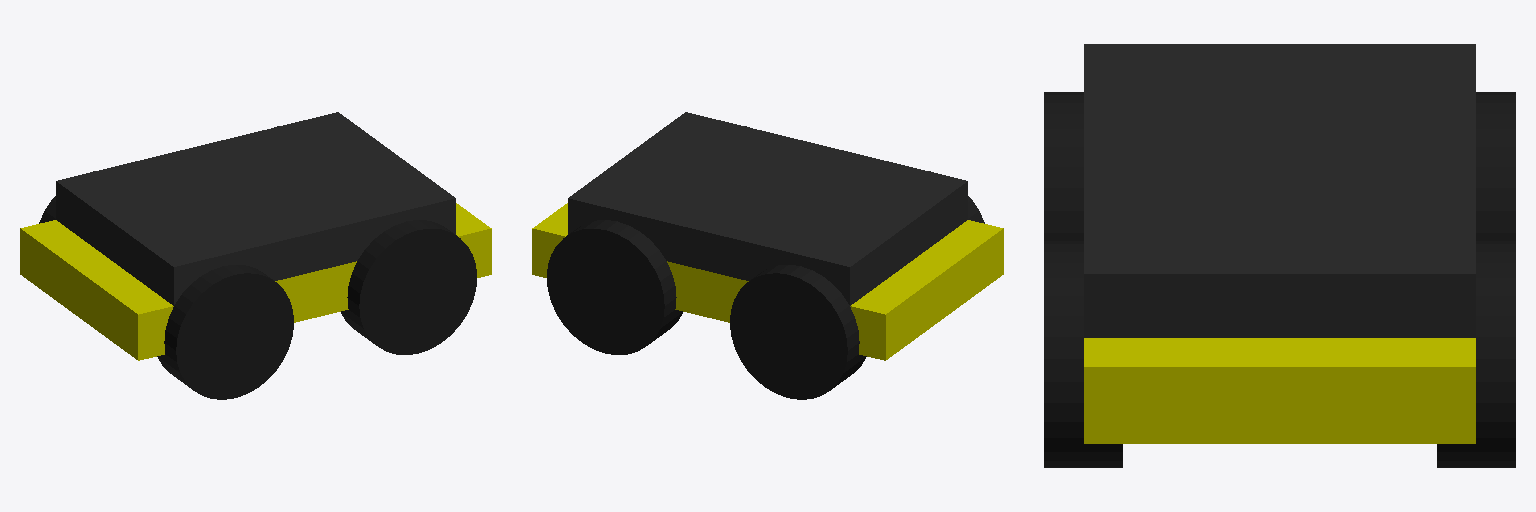
The robot description file, URDF, robot "husky":
<?xml version="1.0" ?>
<!--
  Clearpath Husky A200, hand-expanded to plain URDF.

  Source: github.com/husky/husky, package husky_description
    urdf/husky.urdf.xacro   (rev melodic-devel: base_[xyz]_size, wheelbase, track,
                             wheel_vertical_offset, base_link collision boxes,
                             inertial_link, the four husky_wheel invocations)
    urdf/wheel.urdf.xacro   (husky_wheel macro: wheel mass, inertia, cylinder
                             collision, continuous joint about Y)

  Two deliberate differences from the upstream description, both noted in
  examples/husky/README.md:

  * The .dae visual meshes (base_link, wheel, top_chassis, bumpers, user rail,
    top plate) are replaced by the primitives the upstream file already gives as
    *collision* geometry, because the ostrich builder is fed primitives.
  * `track` is 0.5708, the value in husky/husky kinetic-devel and melodic-devel.
    noetic-devel changed it to 0.555; every other number here is identical
    across those branches.

  Nothing in ostrich parses this file: like examples/assets/helhest.urdf it is
  the traceable record of where examples/husky/common.py's numbers come from.
-->
<robot name="husky">

  <!-- Base link is the center of the robot's bottom plate. -->
  <link name="base_link">
    <!-- Lower half of the chassis shell: base_x_size x base_y_size x base_z_size/2,
         centred at base_z_size/4. -->
    <visual>
      <origin xyz="0 0 0.061875" rpy="0 0 0"/>
      <geometry>
        <box size="0.987400 0.570900 0.123750"/>
      </geometry>
      <material name="husky_yellow">
        <color rgba="0.8 0.8 0.0 1.0"/>
      </material>
    </visual>
    <collision>
      <origin xyz="0 0 0.061875" rpy="0 0 0"/>
      <geometry>
        <box size="0.987400 0.570900 0.123750"/>
      </geometry>
    </collision>

    <!-- Upper half: base_x_size*4/5 x base_y_size x base_z_size/2 - 0.02,
         centred at base_z_size*3/4 - 0.01. -->
    <visual>
      <origin xyz="0 0 0.175625" rpy="0 0 0"/>
      <geometry>
        <box size="0.789920 0.570900 0.103750"/>
      </geometry>
      <material name="husky_dark_grey">
        <color rgba="0.2 0.2 0.2 1.0"/>
      </material>
    </visual>
    <collision>
      <origin xyz="0 0 0.175625" rpy="0 0 0"/>
      <geometry>
        <box size="0.789920 0.570900 0.103750"/>
      </geometry>
    </collision>

    <!-- Upstream carries this on a fixed-jointed `inertial_link`; folded onto
         base_link here (the fixed joint has a zero origin, so the values are
         unchanged). Inertia is about the center of mass. -->
    <inertial>
      <mass value="46.034"/>
      <origin xyz="-0.00065 -0.085 0.062" rpy="0 0 0"/>
      <inertia ixx="0.6022" ixy="-0.02364" ixz="-0.1197"
               iyy="1.7386" iyz="-0.001544" izz="2.0296"/>
    </inertial>
  </link>

  <!-- Ground contact point: wheel_vertical_offset - wheel_radius below base_link,
       i.e. the chassis floor sits 0.13228 m clear of flat ground. -->
  <link name="base_footprint"/>
  <joint name="base_footprint_joint" type="fixed">
    <origin xyz="0 0 -0.13228" rpy="0 0 0"/>
    <parent link="base_link"/>
    <child link="base_footprint"/>
  </joint>

  <!-- Wheels. Joint origins are (+-wheelbase/2, +-track/2, wheel_vertical_offset)
       = (+-0.2560, +-0.2854, 0.03282). -->

  <link name="front_left_wheel_link">
    <inertial>
      <mass value="2.637"/>
      <origin xyz="0 0 0" rpy="0 0 0"/>
      <inertia ixx="0.02467" ixy="0" ixz="0" iyy="0.04411" iyz="0" izz="0.02467"/>
    </inertial>
    <visual>
      <origin xyz="0 0 0" rpy="1.5707963267948966 0 0"/>
      <geometry>
        <cylinder length="0.1143" radius="0.1651"/>
      </geometry>
      <material name="husky_black">
        <color rgba="0.15 0.15 0.15 1.0"/>
      </material>
    </visual>
    <collision>
      <origin xyz="0 0 0" rpy="1.5707963267948966 0 0"/>
      <geometry>
        <cylinder length="0.1143" radius="0.1651"/>
      </geometry>
    </collision>
  </link>
  <joint name="front_left_wheel" type="continuous">
    <parent link="base_link"/>
    <child link="front_left_wheel_link"/>
    <origin xyz="0.2560 0.2854 0.03282" rpy="0 0 0"/>
    <axis xyz="0 1 0"/>
  </joint>

  <link name="front_right_wheel_link">
    <inertial>
      <mass value="2.637"/>
      <origin xyz="0 0 0" rpy="0 0 0"/>
      <inertia ixx="0.02467" ixy="0" ixz="0" iyy="0.04411" iyz="0" izz="0.02467"/>
    </inertial>
    <visual>
      <origin xyz="0 0 0" rpy="1.5707963267948966 0 0"/>
      <geometry>
        <cylinder length="0.1143" radius="0.1651"/>
      </geometry>
      <material name="husky_black"/>
    </visual>
    <collision>
      <origin xyz="0 0 0" rpy="1.5707963267948966 0 0"/>
      <geometry>
        <cylinder length="0.1143" radius="0.1651"/>
      </geometry>
    </collision>
  </link>
  <joint name="front_right_wheel" type="continuous">
    <parent link="base_link"/>
    <child link="front_right_wheel_link"/>
    <origin xyz="0.2560 -0.2854 0.03282" rpy="0 0 0"/>
    <axis xyz="0 1 0"/>
  </joint>

  <link name="rear_left_wheel_link">
    <inertial>
      <mass value="2.637"/>
      <origin xyz="0 0 0" rpy="0 0 0"/>
      <inertia ixx="0.02467" ixy="0" ixz="0" iyy="0.04411" iyz="0" izz="0.02467"/>
    </inertial>
    <visual>
      <origin xyz="0 0 0" rpy="1.5707963267948966 0 0"/>
      <geometry>
        <cylinder length="0.1143" radius="0.1651"/>
      </geometry>
      <material name="husky_black"/>
    </visual>
    <collision>
      <origin xyz="0 0 0" rpy="1.5707963267948966 0 0"/>
      <geometry>
        <cylinder length="0.1143" radius="0.1651"/>
      </geometry>
    </collision>
  </link>
  <joint name="rear_left_wheel" type="continuous">
    <parent link="base_link"/>
    <child link="rear_left_wheel_link"/>
    <origin xyz="-0.2560 0.2854 0.03282" rpy="0 0 0"/>
    <axis xyz="0 1 0"/>
  </joint>

  <link name="rear_right_wheel_link">
    <inertial>
      <mass value="2.637"/>
      <origin xyz="0 0 0" rpy="0 0 0"/>
      <inertia ixx="0.02467" ixy="0" ixz="0" iyy="0.04411" iyz="0" izz="0.02467"/>
    </inertial>
    <visual>
      <origin xyz="0 0 0" rpy="1.5707963267948966 0 0"/>
      <geometry>
        <cylinder length="0.1143" radius="0.1651"/>
      </geometry>
      <material name="husky_black"/>
    </visual>
    <collision>
      <origin xyz="0 0 0" rpy="1.5707963267948966 0 0"/>
      <geometry>
        <cylinder length="0.1143" radius="0.1651"/>
      </geometry>
    </collision>
  </link>
  <joint name="rear_right_wheel" type="continuous">
    <parent link="base_link"/>
    <child link="rear_right_wheel_link"/>
    <origin xyz="-0.2560 -0.2854 0.03282" rpy="0 0 0"/>
    <axis xyz="0 1 0"/>
  </joint>

</robot>

--- What the picture shows (computed from the rendered views, not written in the file) ---
Views: 3 orthographic renders of the robot side by side, from view 1: azimuth 30°, elevation 25°; view 2: azimuth 150°, elevation 25°; view 3: azimuth 270°, elevation 25°.
Model husky with 6 links and 5 joints (4 continuous, 1 fixed), rooted at base_link, posed all joints at 0.
Links seen in each view (by area): view 1: base_link, front_right_wheel_link, rear_right_wheel_link; view 2: base_link, front_left_wheel_link, rear_left_wheel_link; view 3: base_link, front_left_wheel_link, front_right_wheel_link, rear_left_wheel_link, rear_right_wheel_link.
Link boxes in pixels (box(x1,y1,x2,y2)): base_link: box(20, 112, 491, 360); front_right_wheel_link: box(341, 220, 476, 354); rear_right_wheel_link: box(157, 265, 293, 399); base_link: box(532, 112, 1003, 360); front_left_wheel_link: box(547, 220, 682, 354); rear_left_wheel_link: box(730, 265, 866, 399); base_link: box(1084, 44, 1475, 443); front_left_wheel_link: box(1437, 241, 1515, 467); front_right_wheel_link: box(1044, 241, 1122, 467); rear_left_wheel_link: box(1476, 92, 1515, 240); rear_right_wheel_link: box(1044, 92, 1083, 240).
Size in the robot's own frame: 0.9874 by 0.6851 by 0.3598 metres.
Geometry: primitives only (box / cylinder / sphere), no mesh files.
